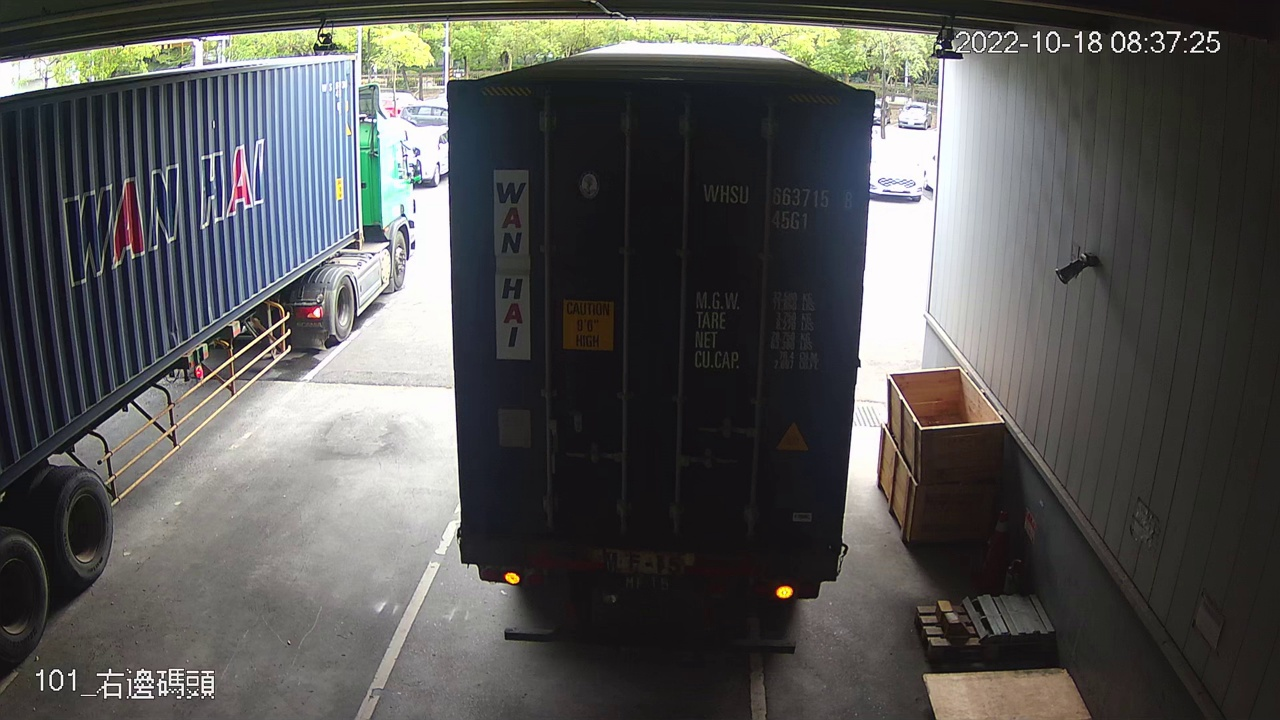container: (693, 175, 861, 236)
